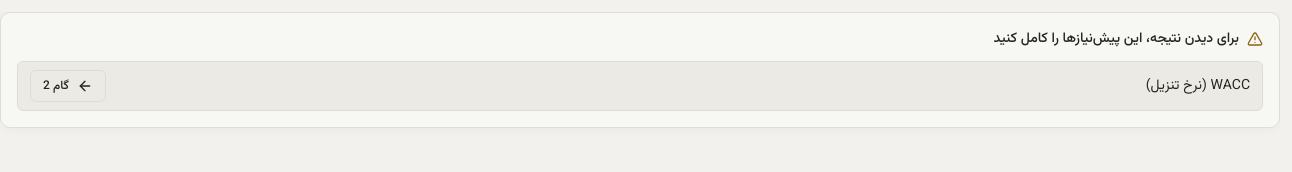
Test: PrerequisiteChecklist › navigates to the providing step when the button is clicked
Step 1. Click the button "گام 2" → click(68, 86), box [30,70,106,102]
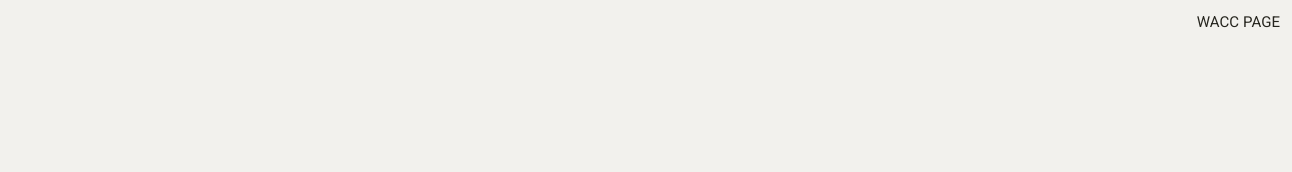
Expected: the text "WACC PAGE" is shown, [1197,12,1280,35]
